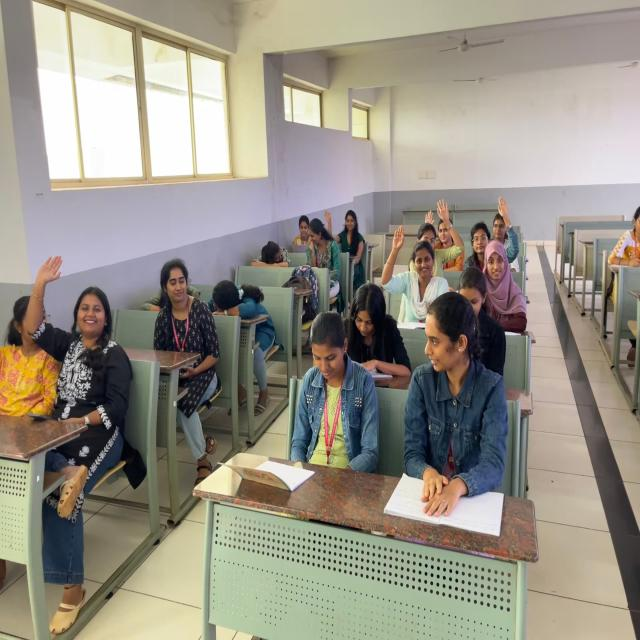Hand Rising: (22, 252, 132, 441), (389, 225, 451, 324), (420, 194, 465, 279), (468, 198, 520, 270), (326, 209, 366, 268)
Sleeping: (214, 276, 281, 420), (247, 241, 288, 271)
Using Phone: (290, 312, 364, 476)
Writing: (348, 281, 406, 385)
